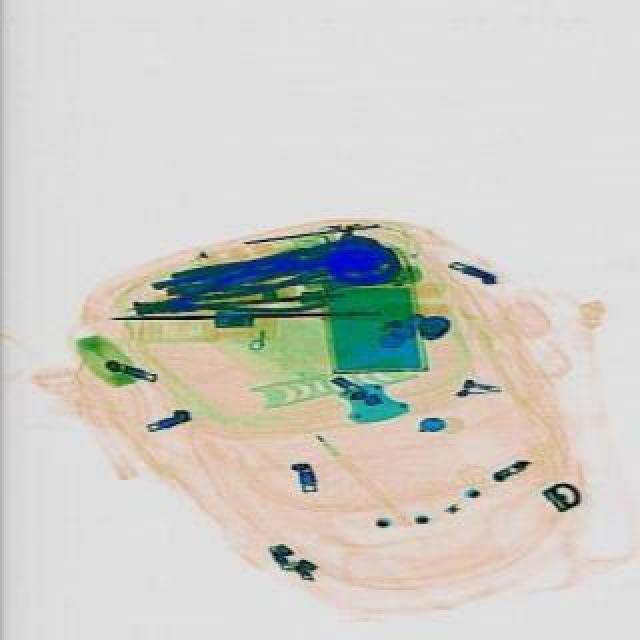wrench: (128, 254, 328, 334)
